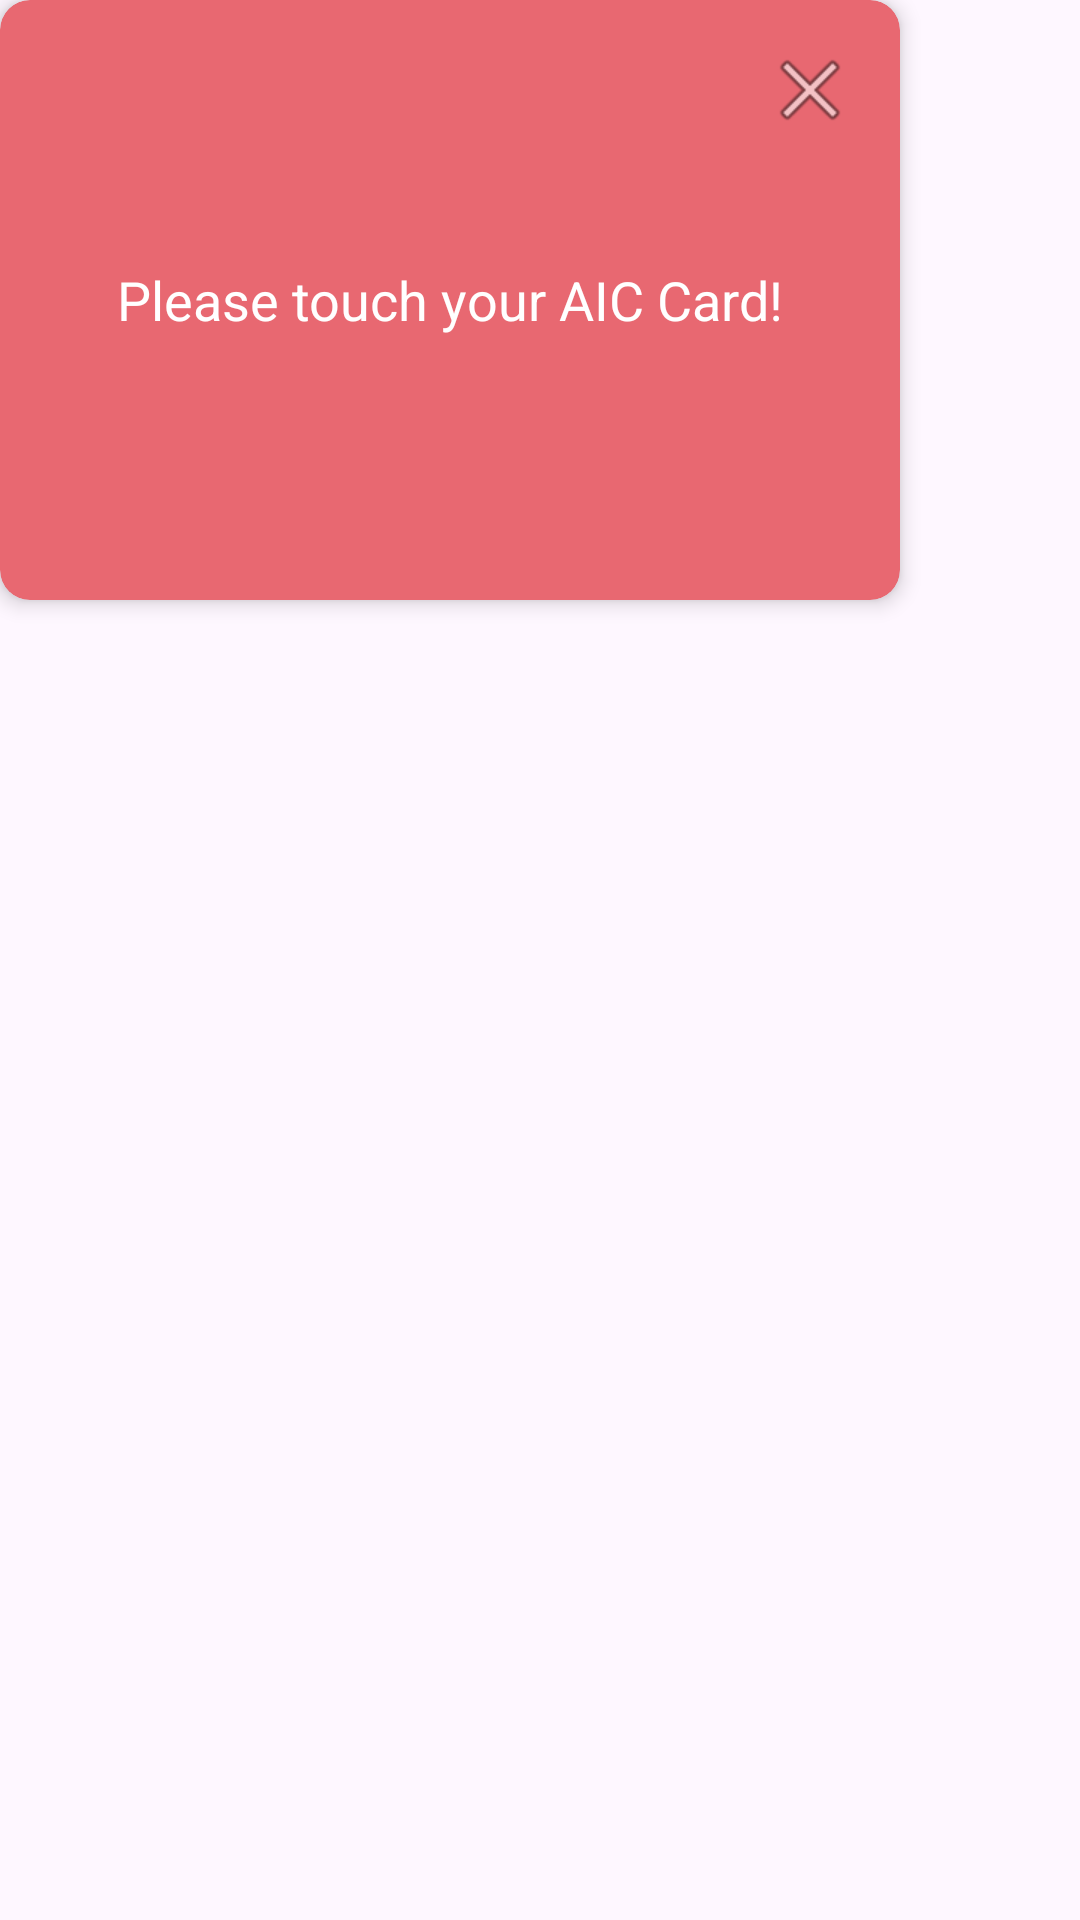

Icons on this 1080x1920 Android screen, each with its box as (x1, y1, x2, y2):
close clear cancel: (780, 60, 840, 120)
